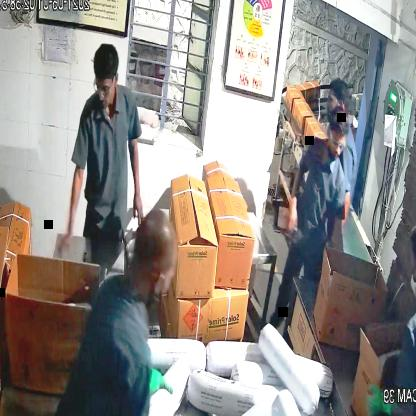goggles: (89, 75, 118, 102), (325, 125, 350, 153)
